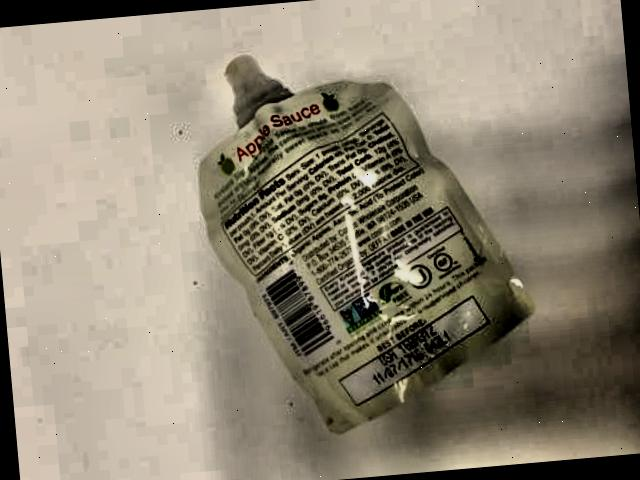Plastic: (123, 10, 594, 460)
